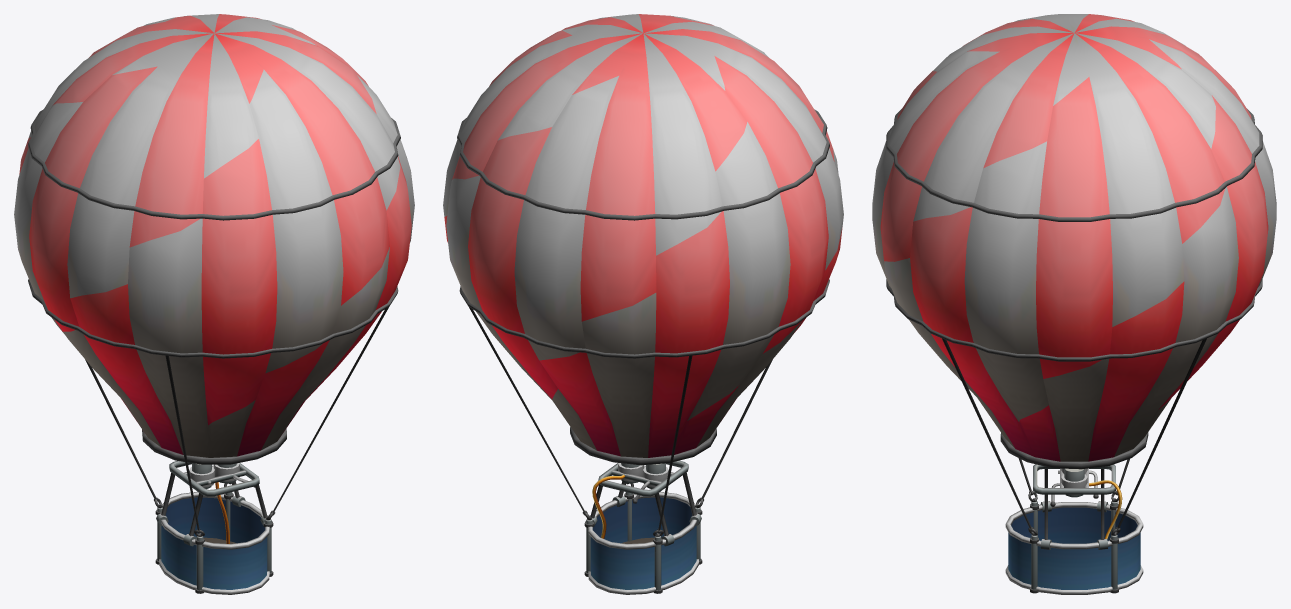
Rendered from balloon_3.fbx.
3 views of the same model, side by side, from view 1: azimuth 30°, elevation 25°; view 2: azimuth 150°, elevation 25°; view 3: azimuth 270°, elevation 25° (orthographic).
Parts seen in each view (by area): view 1: Balloon_3; view 2: Balloon_3; view 3: Balloon_3.
Part boxes in pixels (x1=…): Balloon_3: x1=14, y1=14, x2=414, y2=594; Balloon_3: x1=443, y1=14, x2=843, y2=594; Balloon_3: x1=872, y1=14, x2=1276, y2=594.
Bounding box in the file's own units: 970 × 1433 × 970.
